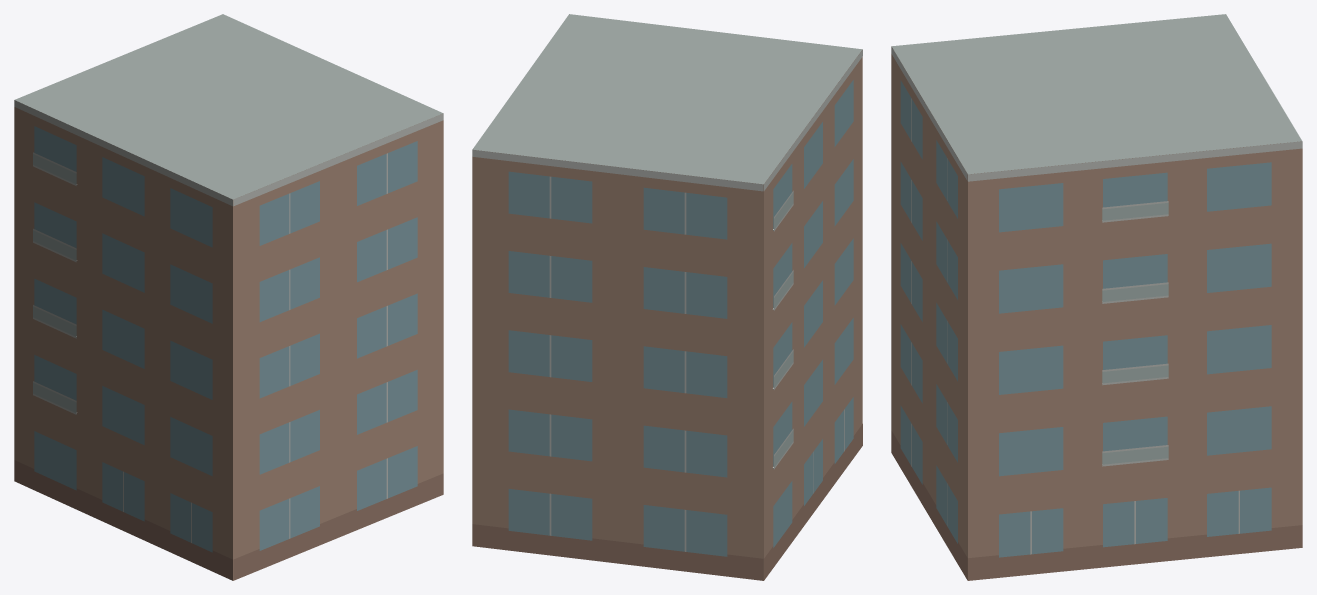
The model's file is survey-upis-32653888.glb.
3 views of the same model, side by side, from view 1: azimuth 30°, elevation 25°; view 2: azimuth 150°, elevation 25°; view 3: azimuth 270°, elevation 25° (orthographic). The views are drawn at different scales.
Visible parts, largest first — view 1: survey-upis-32653888.tmp; view 2: survey-upis-32653888.tmp; view 3: survey-upis-32653888.tmp.
Part boxes in pixels (x1,y1,x2,y2): survey-upis-32653888.tmp: (14,14,443,580); survey-upis-32653888.tmp: (472,14,862,580); survey-upis-32653888.tmp: (891,14,1302,580).
Bounding box in the file's own units: 11.52 × 13.6 × 12.47.
